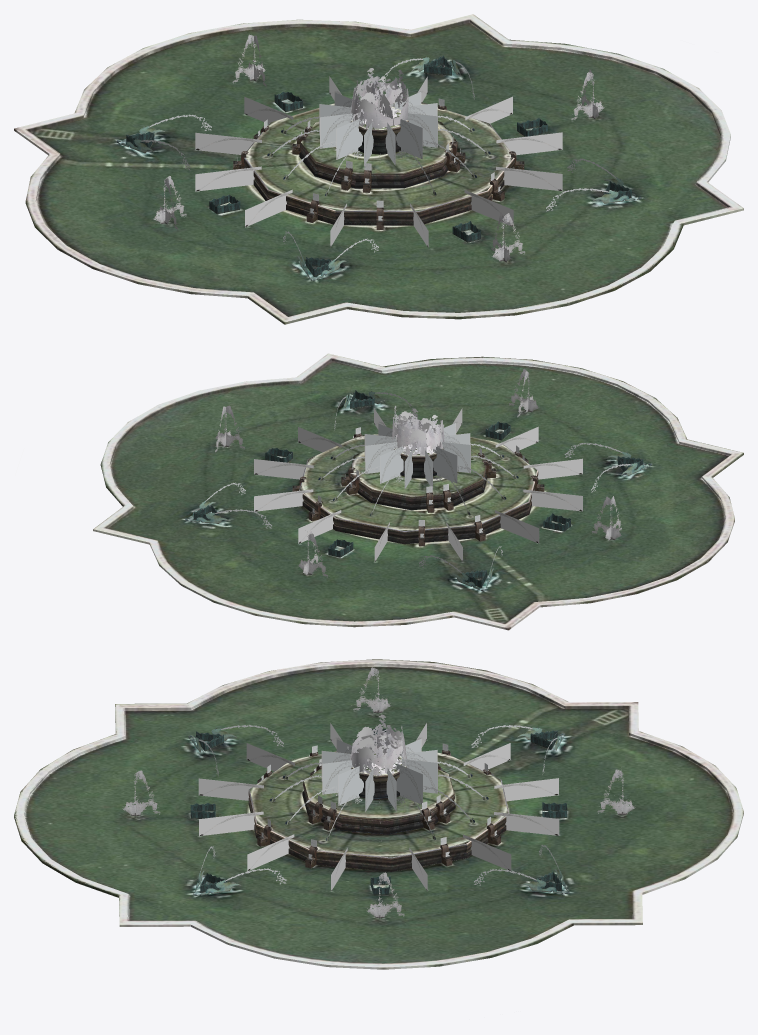
File: BuckinghamFountain.dae
The picture shows the model from 3 angles, top to bottom: view 1: azimuth 30°, elevation 25°; view 2: azimuth 150°, elevation 25°; view 3: azimuth 270°, elevation 25°; orthographic projection. The views are drawn at different scales.
Visible parts, largest first — view 1: SketchUp (×9), upperfountains (×4), group_8, group_1, group_5, group_2, group_0, group_10, group_3, group_7; view 2: SketchUp (×7), upperfountains (×4), group_0, group_7, group_6, group_11, group_1, group_4, group_5, group_9; view 3: SketchUp (×7), upperfountains (×4), group_10, group_4, group_3, group_9, group_8, group_6, group_11, group_2.
Boxes of the visible parts, x1,y1,x2,y2 form: SketchUp (×9): (14,14,743,324); upperfountains (×4): (320,113,437,159); group_8: (496,166,562,191); group_1: (195,166,261,191); group_5: (496,132,562,155); group_2: (195,132,261,154); group_0: (245,189,292,227); group_10: (464,190,513,226); group_3: (244,97,293,123); group_7: (465,96,512,123); SketchUp (×7): (93,353,743,630); upperfountains (×4): (365,442,470,483); group_0: (523,489,582,511); group_7: (254,459,313,479); group_6: (254,489,313,511); group_11: (523,458,582,479); group_1: (495,510,539,543); group_4: (298,510,341,543); group_5: (298,427,341,452); group_9: (495,426,538,452); SketchUp (×7): (14,659,743,969); upperfountains (×4): (322,759,437,805); group_10: (199,811,263,836); group_4: (494,812,559,835); group_3: (494,778,558,801); group_9: (198,778,263,800); group_8: (247,834,294,870); group_6: (463,834,511,870); group_11: (246,743,294,771); group_2: (463,743,510,770).
Bounding box in the file's own units: 3915 × 3507 × 566.
16 materials, 15 textured.
